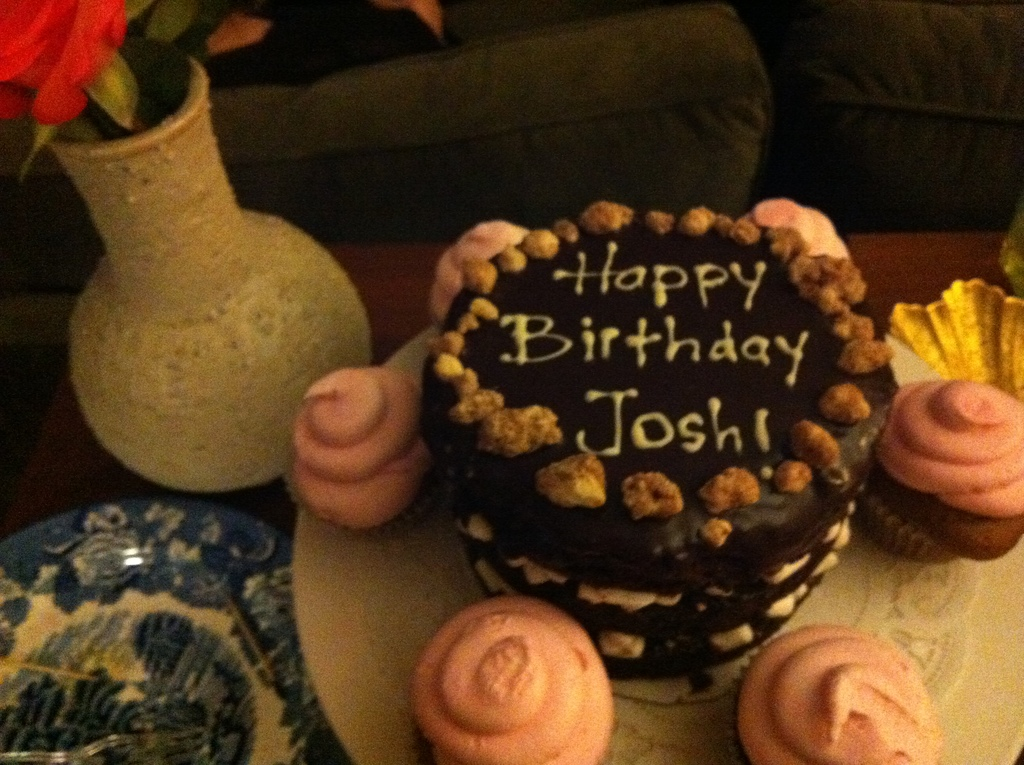cake: (417, 200, 893, 682)
